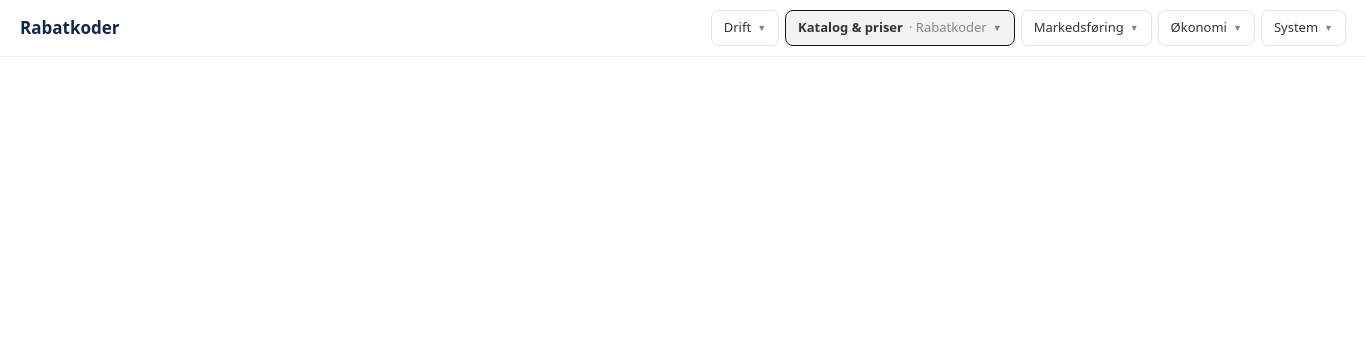
Test case: AdminNav › folder gruppens sider ud ved klik og markerer den aktuelle
Click the button "Katalog & priser · Rabatkoder ▼" at (900, 28), box [785, 10, 1015, 46]
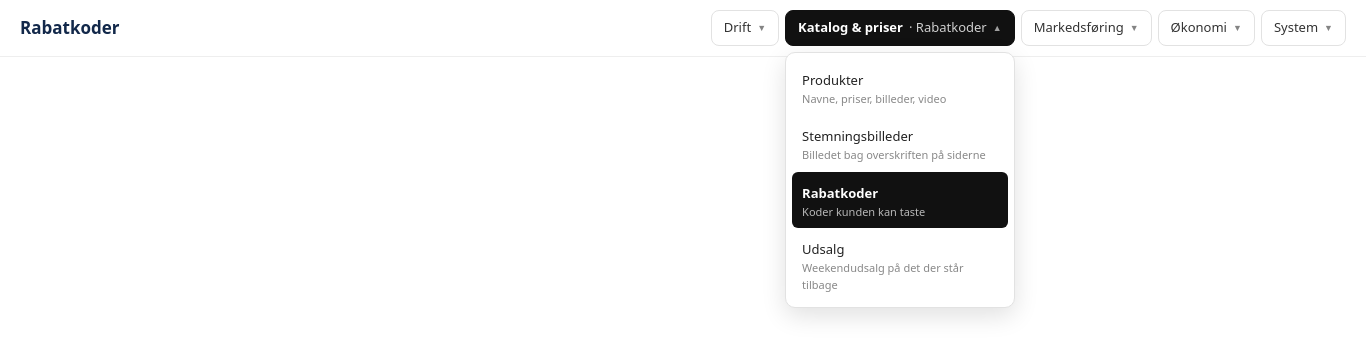
Expected: the menu named "Katalog & priser" is shown, [785, 52, 1015, 308]
Expected: the menu item "Produkter Navne, priser, billeder, video" is shown, [802, 70, 946, 106]
